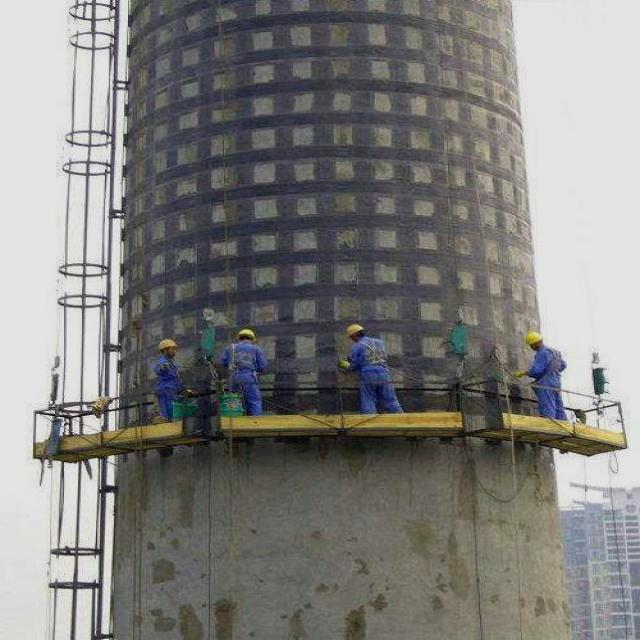head_helmet: (521, 330, 547, 348), (237, 326, 257, 342), (156, 338, 182, 349), (342, 324, 365, 336)
person: (336, 323, 396, 426), (516, 327, 570, 415), (147, 327, 183, 426), (223, 328, 262, 417)
